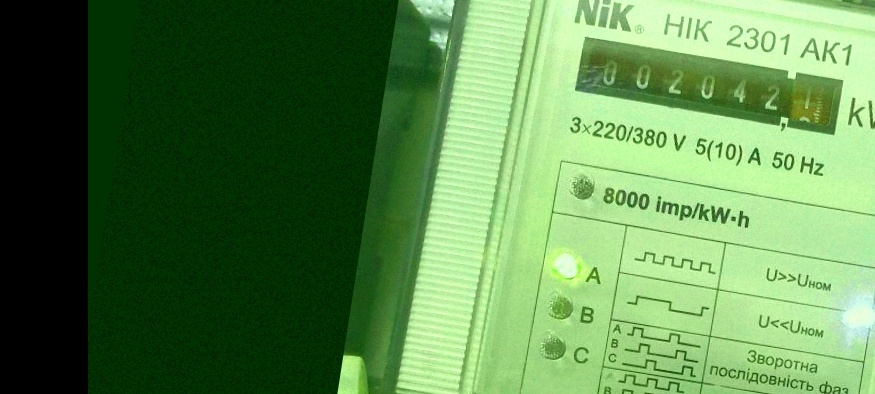0: (697, 69, 719, 102), (599, 55, 621, 87), (633, 59, 654, 92)
1: (798, 80, 817, 113)
2: (665, 65, 688, 97), (762, 80, 783, 112)
4: (730, 72, 752, 107)
screen: (569, 31, 851, 144)
